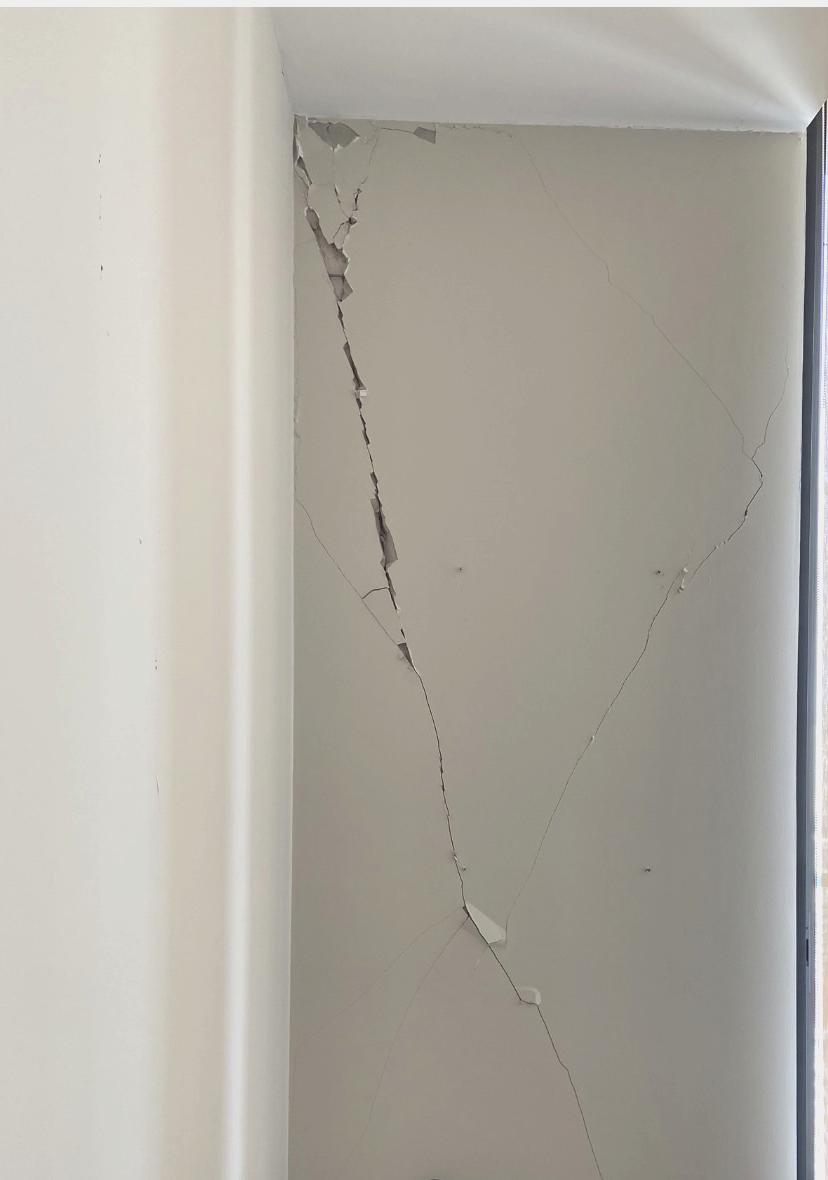High: (282, 104, 784, 1175)
